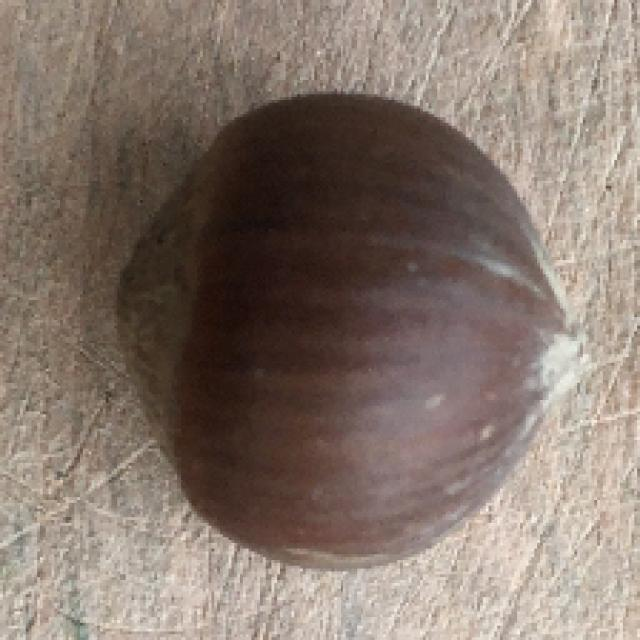DamagedHazelnut: (111, 94, 594, 570)
